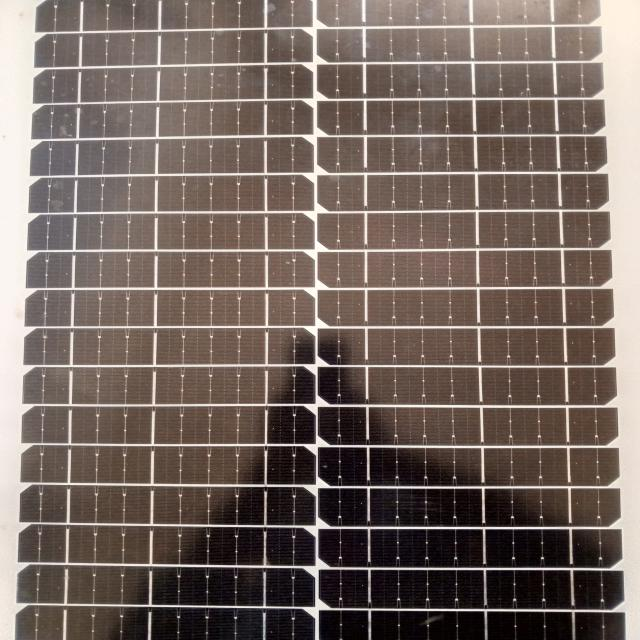Clean: (26, 9, 633, 632)
